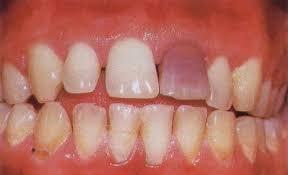Calculus: (30, 107, 71, 155), (176, 99, 207, 156), (208, 111, 240, 162)
Discoloration: (161, 35, 211, 105)
